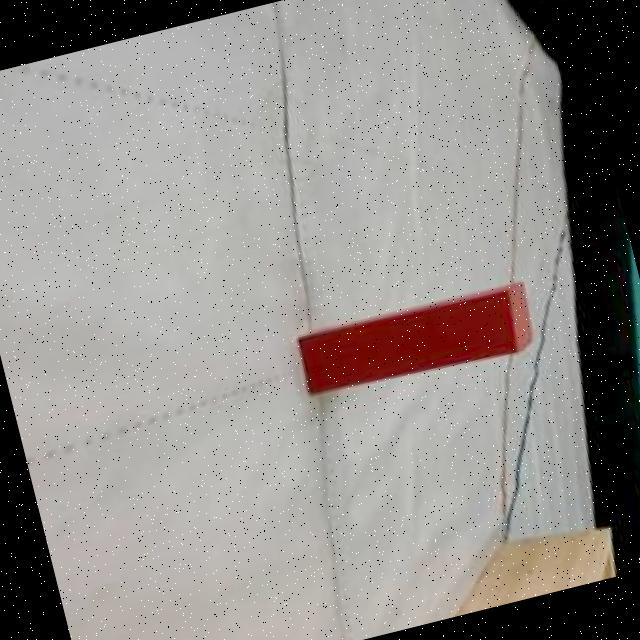redbox: (292, 276, 543, 406)
